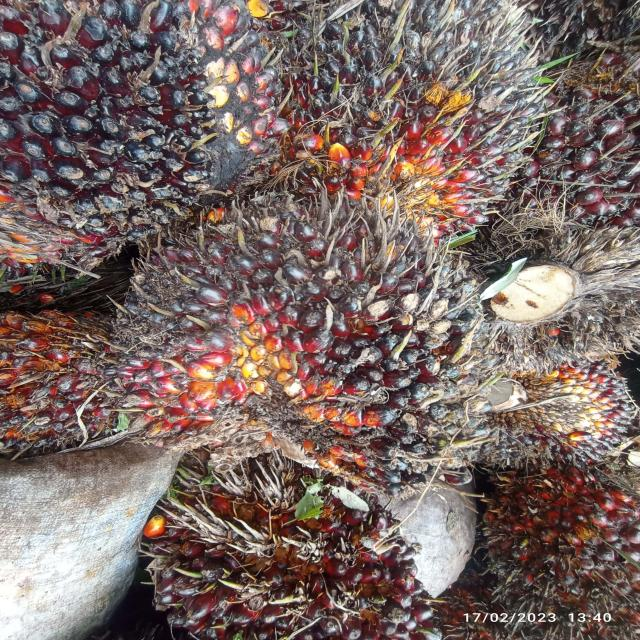fraksi 00: (0, 0, 278, 289), (290, 0, 568, 232)
fraksi 1: (78, 172, 498, 468), (130, 430, 448, 640)
fraksi 3: (487, 433, 640, 636), (4, 303, 114, 448)
